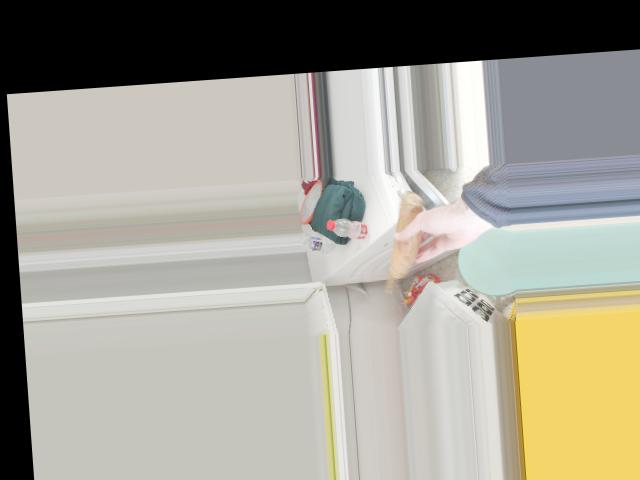sweet_potato: (375, 196, 432, 290)
